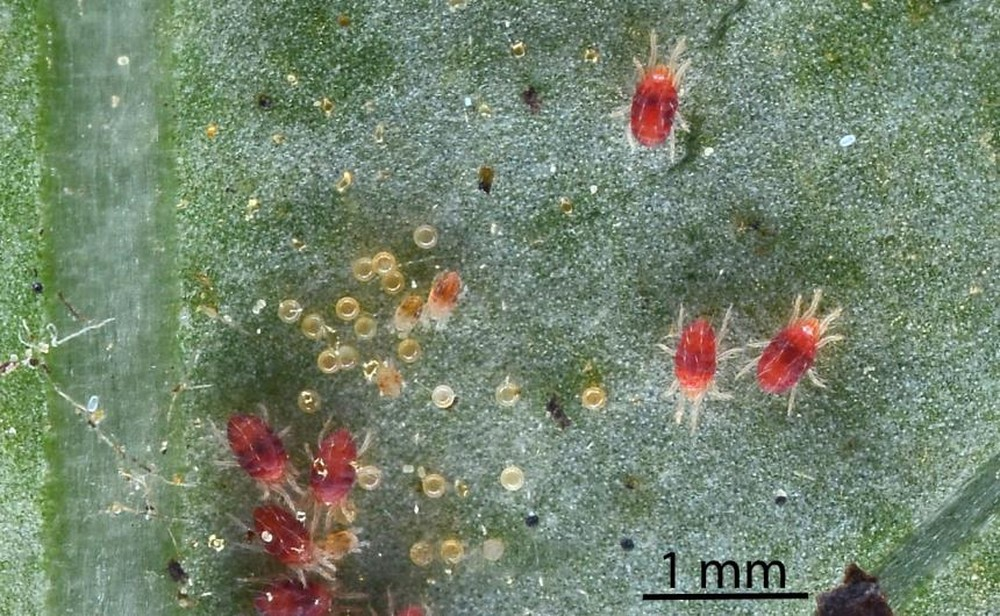Aracnido Rojo: (737, 281, 852, 425), (649, 297, 751, 426), (607, 38, 708, 168), (294, 420, 380, 530), (211, 403, 305, 500), (234, 501, 346, 580), (243, 573, 379, 616), (422, 268, 472, 335)
